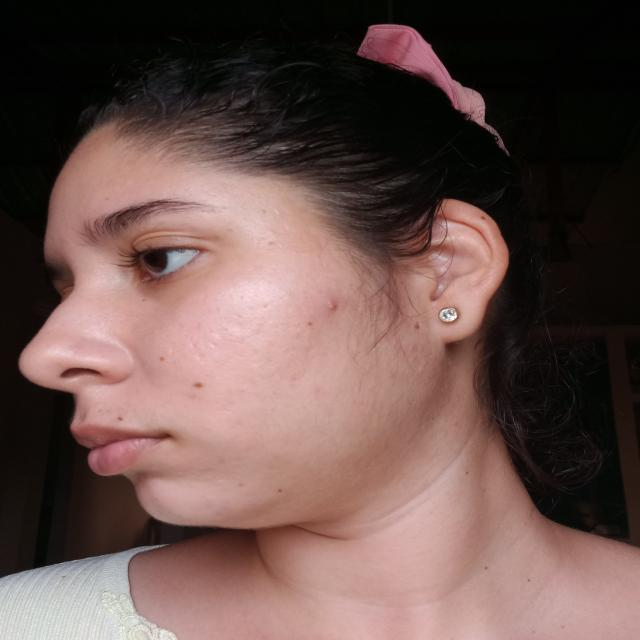Acne: (322, 299, 342, 314)
Englarged-Pores: (182, 278, 294, 372)
